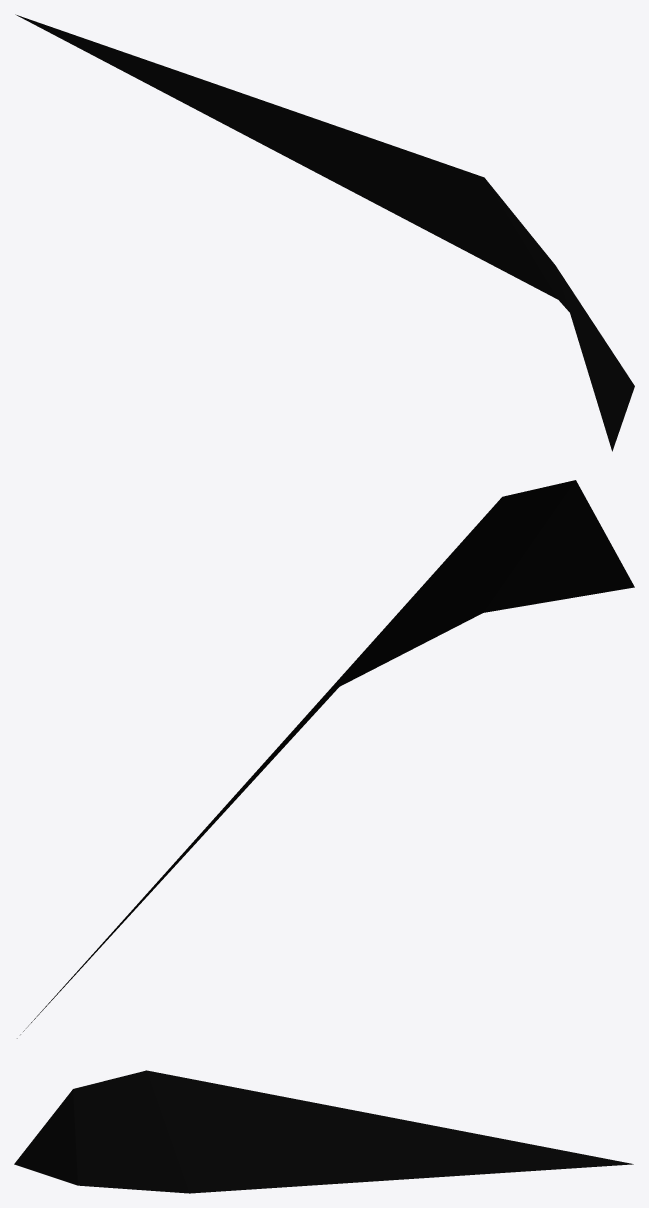
3 views of the same model, one above another, from view 1: azimuth 30°, elevation 25°; view 2: azimuth 150°, elevation 25°; view 3: azimuth 270°, elevation 25° (orthographic). The views are drawn at different scales.
Size of the model in its own units: 0.1099 by 0.1647 by 0.987.
Materials: 1 (1 with a texture image).
